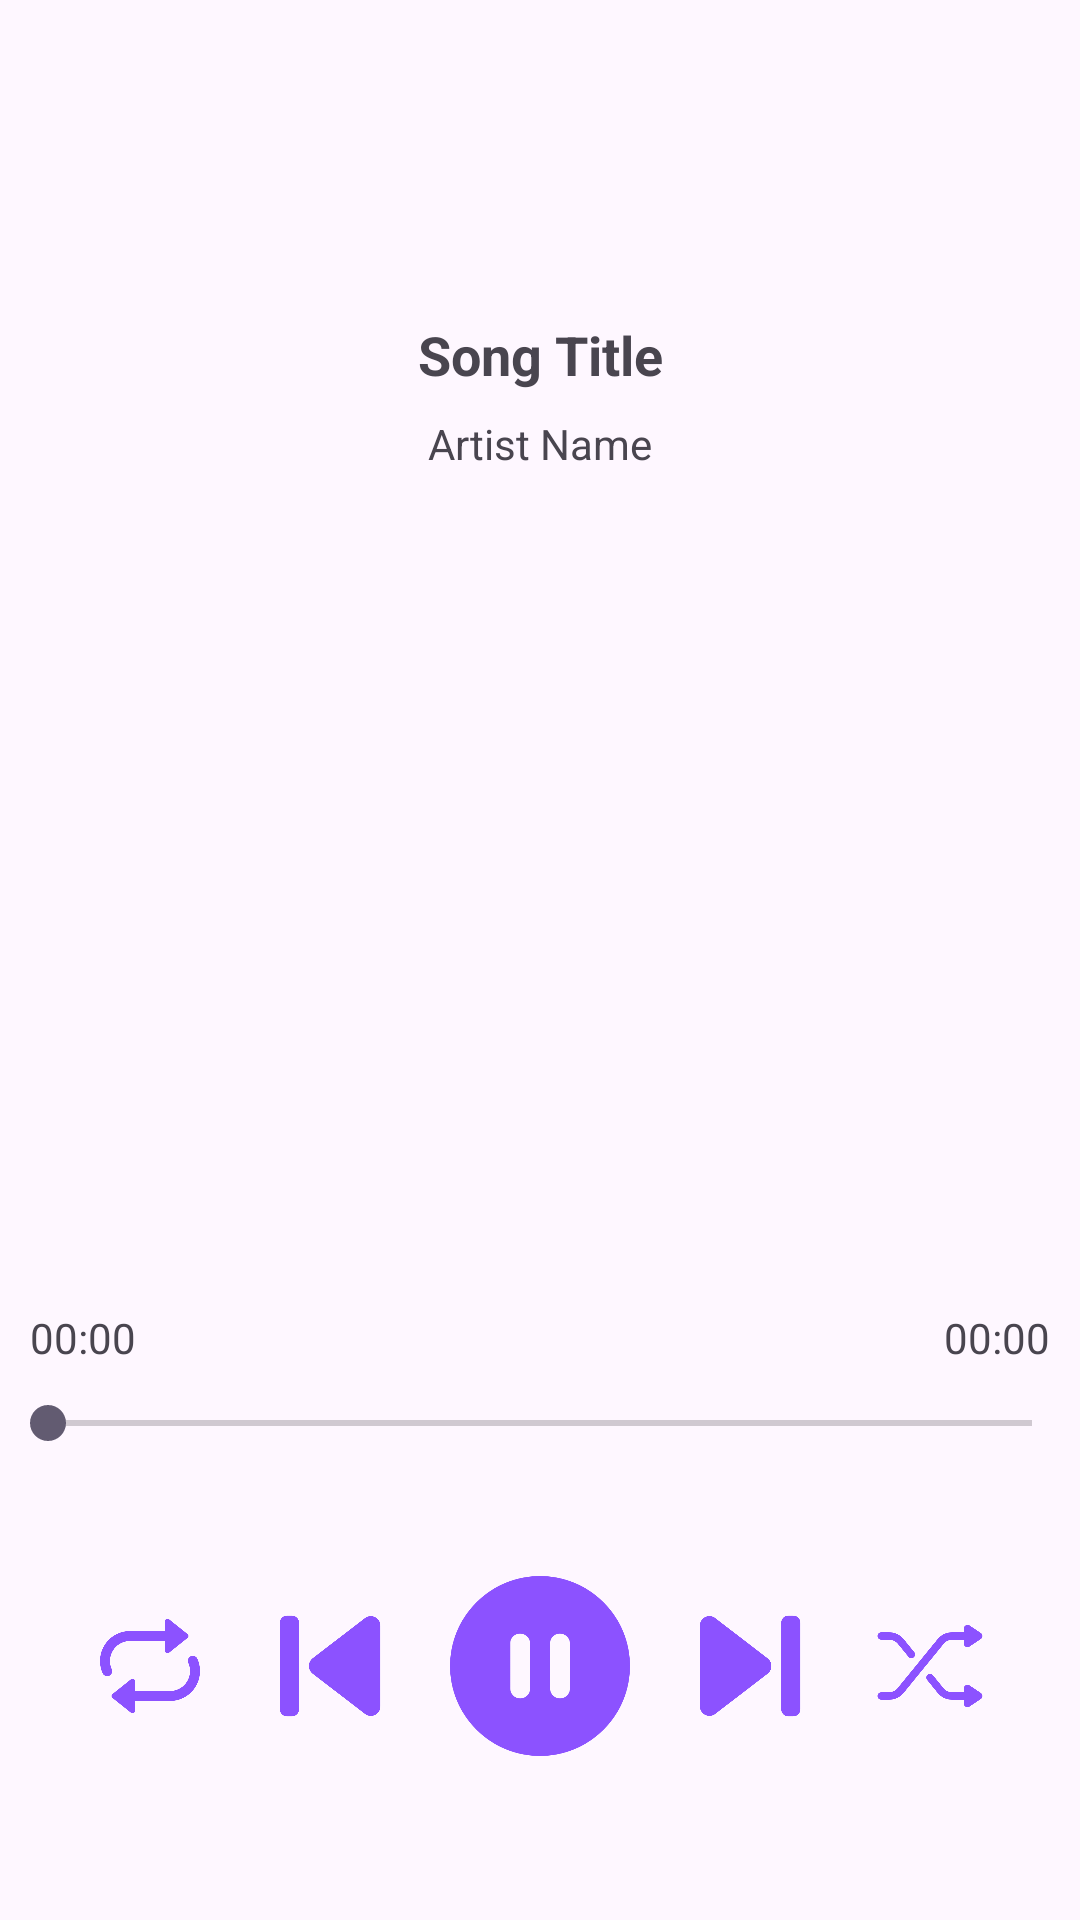

Icons on this 1080w x 1920h Android screen, each with the point to tap as [x,y]:
loop: [150,1666]
next: [750,1666]
pause: [540,1666]
previous: [330,1666]
shuffle: [930,1666]
